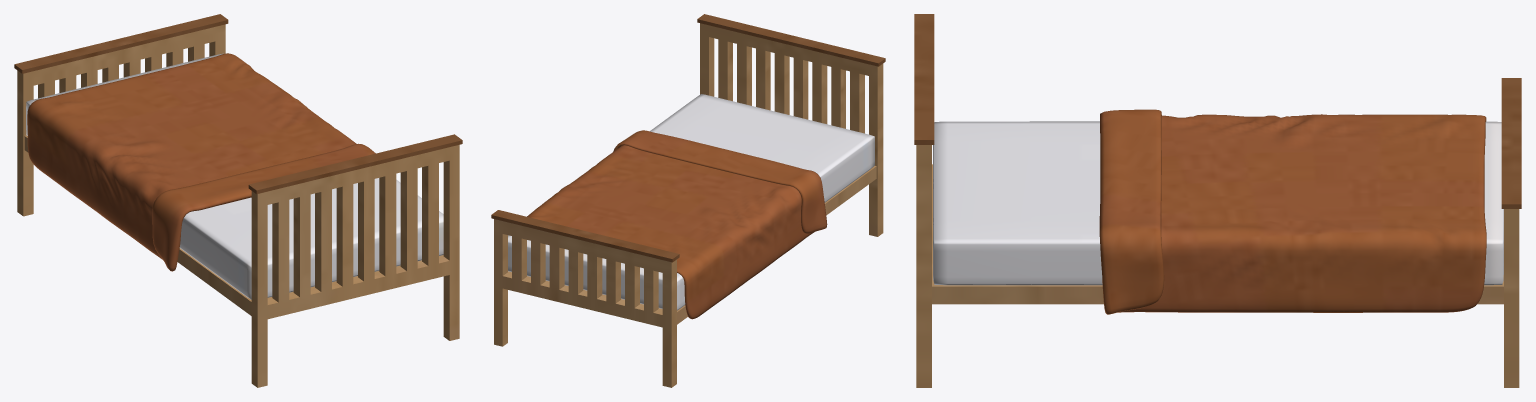
The model's file is Bed01.glb.
The picture shows the model from 3 angles, left to right: view 1: azimuth 30°, elevation 25°; view 2: azimuth 150°, elevation 25°; view 3: azimuth 270°, elevation 25°; orthographic projection. The views are drawn at different scales.
Visible parts, largest first — view 1: BedFrame01, Blanket01, Mattress01; view 2: BedFrame01, Blanket01, Mattress01; view 3: Blanket01, Mattress01, BedFrame01.
Part boxes in pixels (bbox=[...]): BedFrame01: bbox=[14, 14, 462, 387]; Blanket01: bbox=[27, 53, 375, 271]; Mattress01: bbox=[26, 53, 443, 299]; BedFrame01: bbox=[491, 14, 885, 387]; Blanket01: bbox=[527, 130, 827, 319]; Mattress01: bbox=[508, 94, 874, 310]; Blanket01: bbox=[1099, 109, 1486, 314]; Mattress01: bbox=[933, 121, 1503, 285]; BedFrame01: bbox=[914, 14, 1521, 387].
Size of the model in its own units: 2.66 by 2.23 by 4.93.
3 materials, 3 textured.
